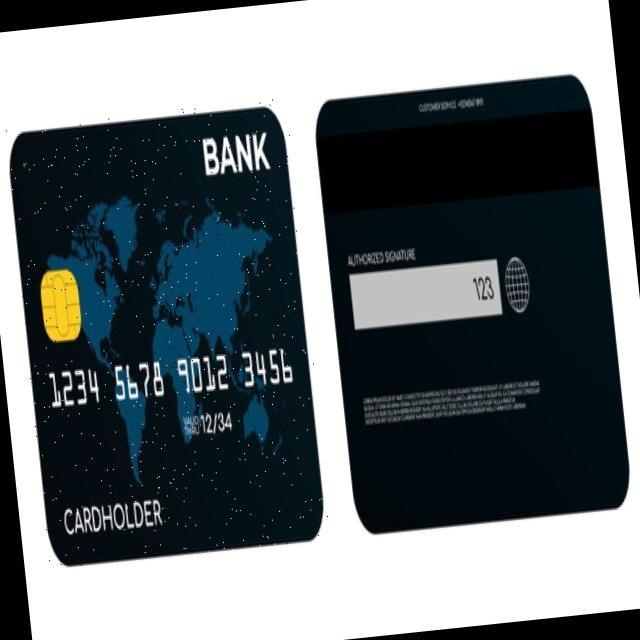payment_card: (8, 105, 324, 566), (313, 75, 629, 534)
